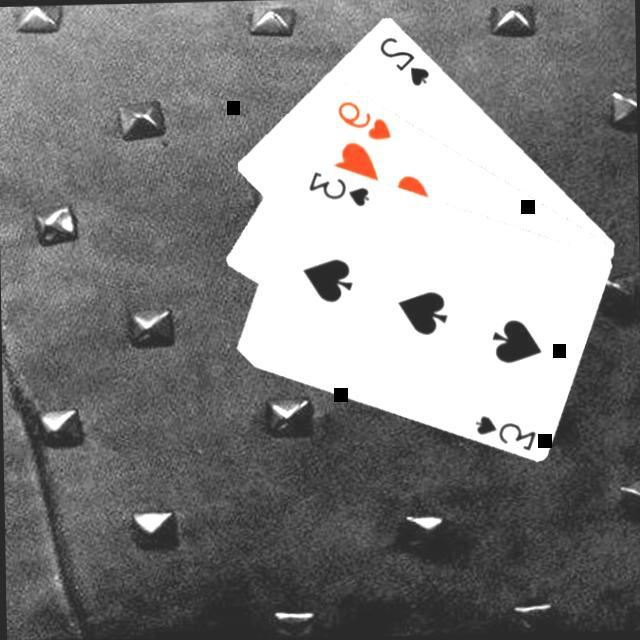2S: (376, 29, 433, 88)
3S: (304, 164, 374, 209), (471, 409, 540, 452)
9H: (333, 93, 395, 142)
